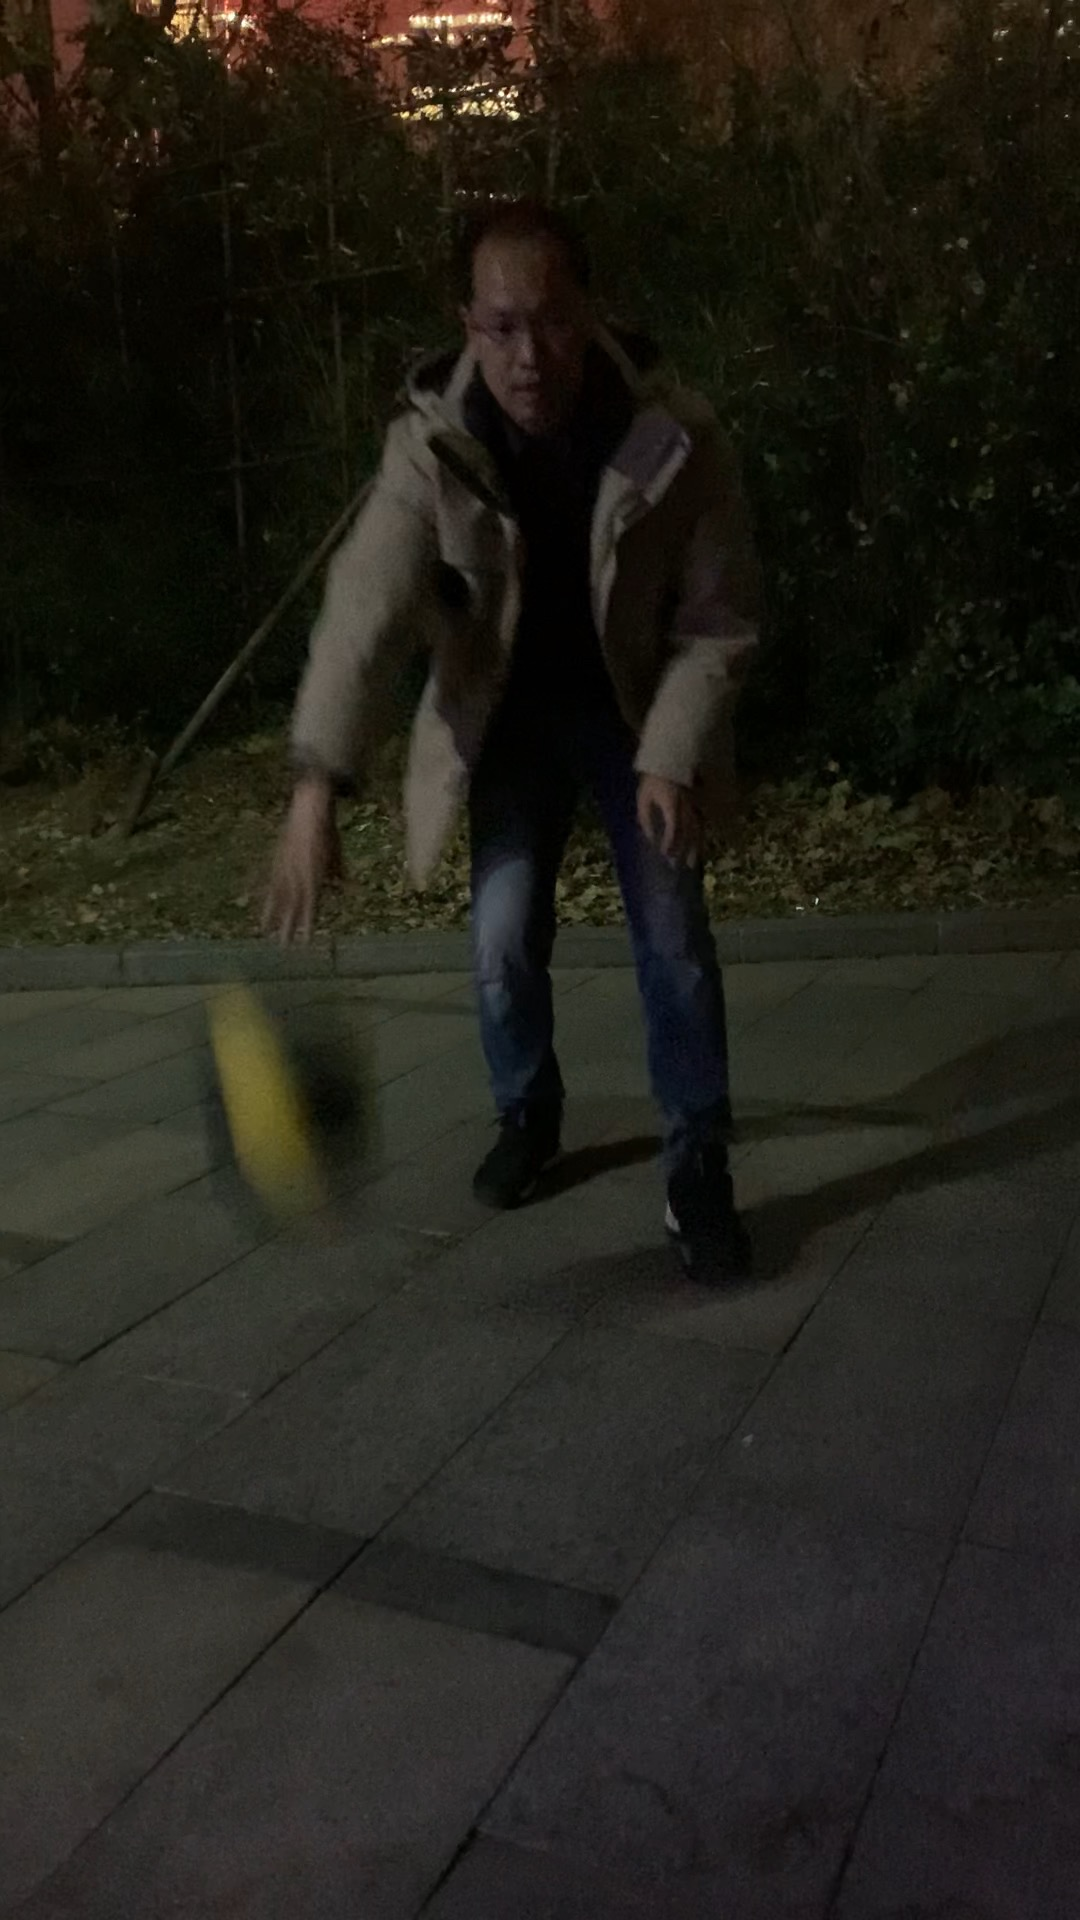ball: (179, 992, 396, 1226)
